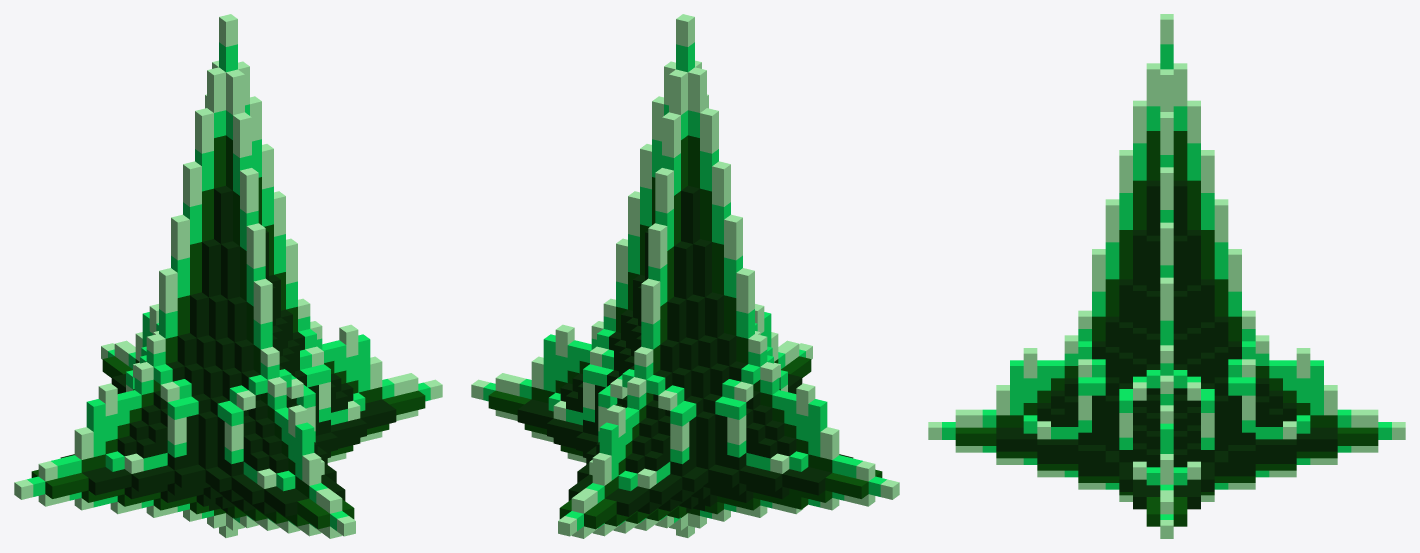
The model's file is magic sword.obj.
3 renders of one model, left to right at view 1: azimuth 30°, elevation 25°; view 2: azimuth 150°, elevation 25°; view 3: azimuth 270°, elevation 25°, orthographic.
Size of the model in its own units: 3.5 by 4.1 by 3.5.
1 material, 1 textured.
